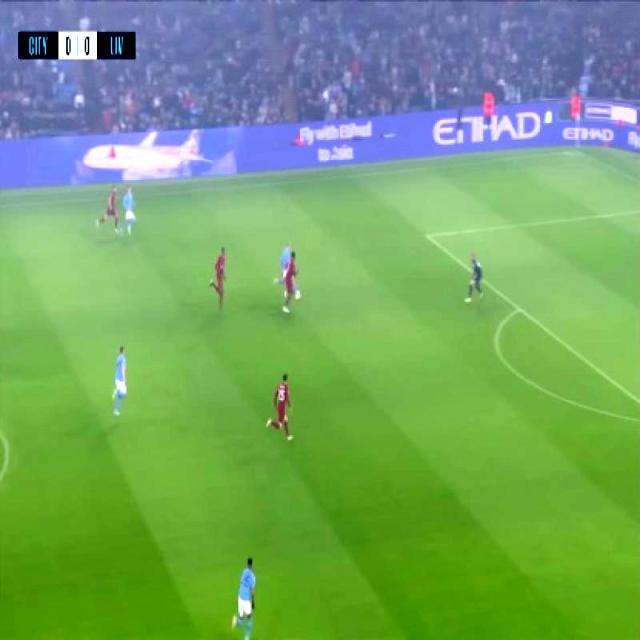bigarea_top_inner: (420, 226, 432, 244)
corner: (568, 144, 586, 157)
top_arc_area_intersection: (512, 298, 524, 320)
